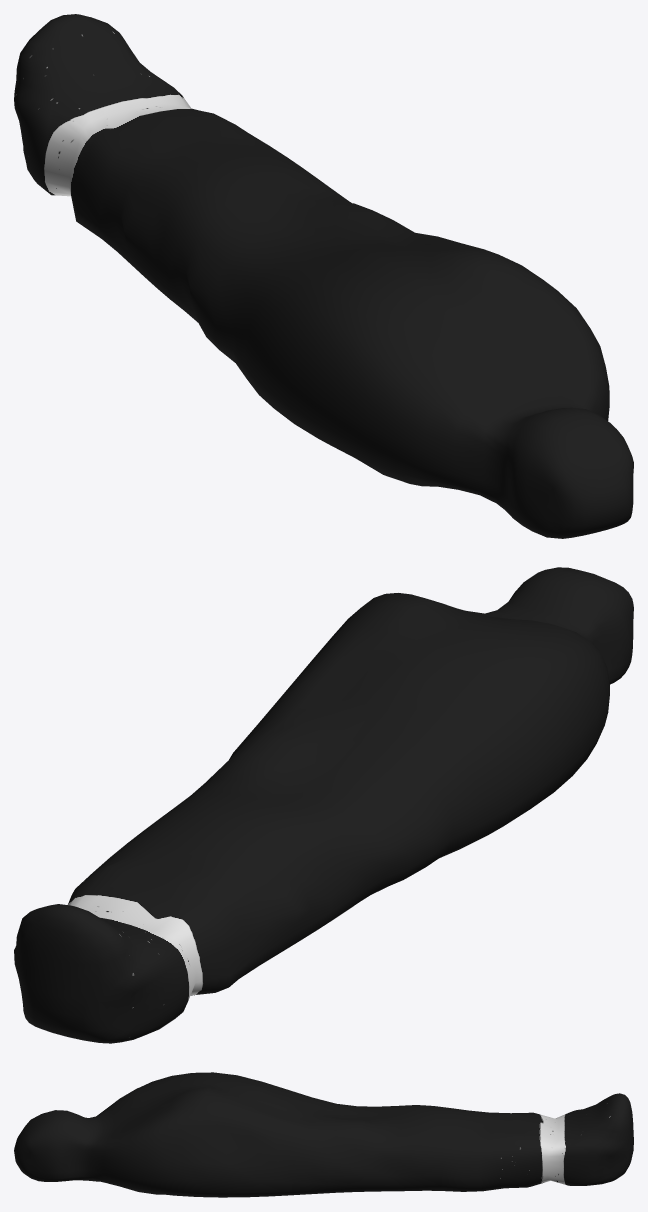
File: SacoCadaverRE1.fbx
3 views of the same model, one above another, from view 1: azimuth 30°, elevation 25°; view 2: azimuth 150°, elevation 25°; view 3: azimuth 270°, elevation 25° (orthographic). The views are drawn at different scales.
Parts seen in each view (by area): view 1: SacoCadaver; view 2: SacoCadaver; view 3: SacoCadaver.
Part boxes in pixels (x1,y1,x2,y2): SacoCadaver: [14, 14, 633, 538]; SacoCadaver: [14, 567, 633, 1043]; SacoCadaver: [14, 1072, 633, 1197].
Bounding box in the file's own units: 0.4868 × 0.2964 × 1.78.
1 material, 1 textured.
